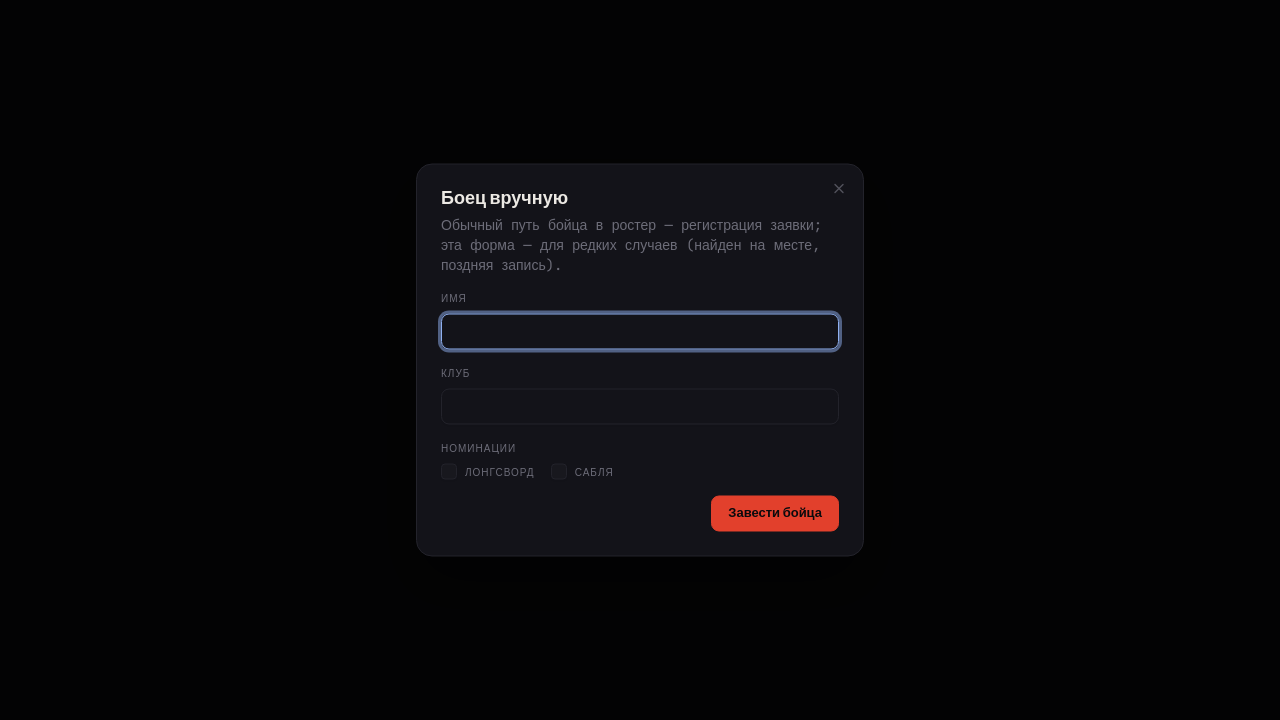
Scenario: CreateFighterDialog › shows an inline error for an empty name and does not submit or close (AC-13)
Click the button "Завести бойца" at (775, 514), box top-left (711, 496), bottom-right (839, 532)
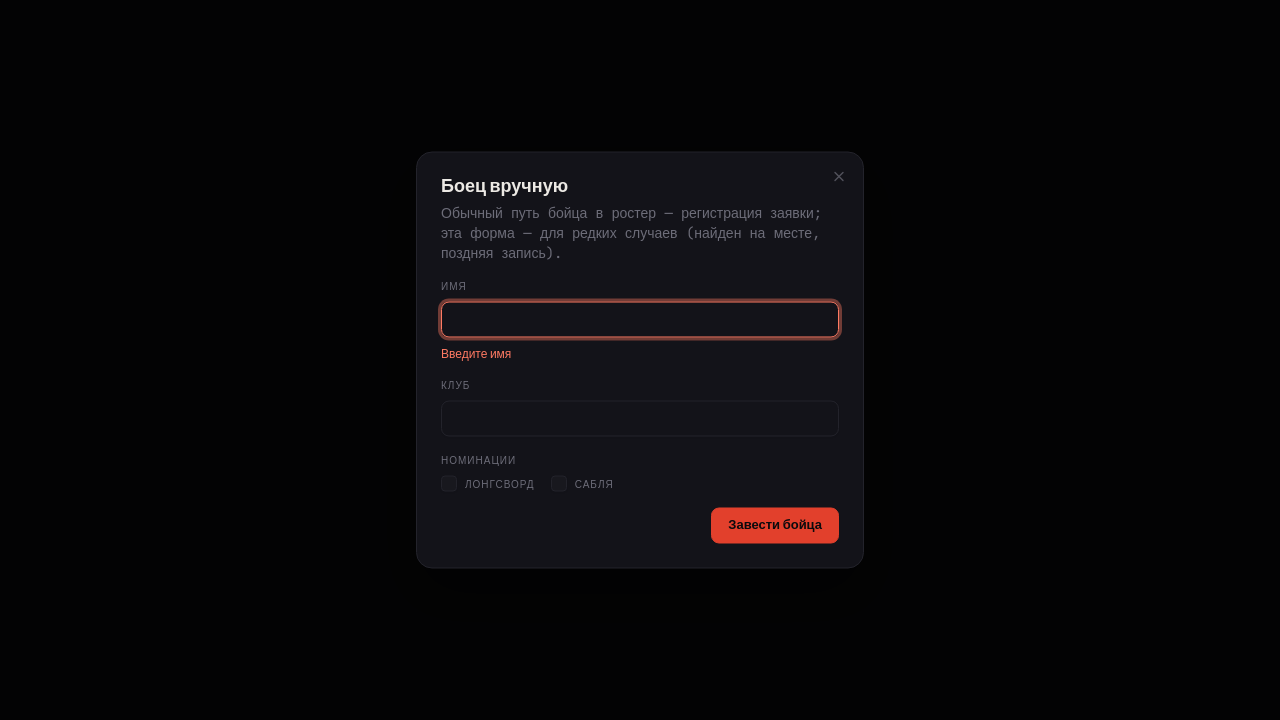
Expected: the text "Введите имя" is shown, top-left (441, 346), bottom-right (511, 360)
